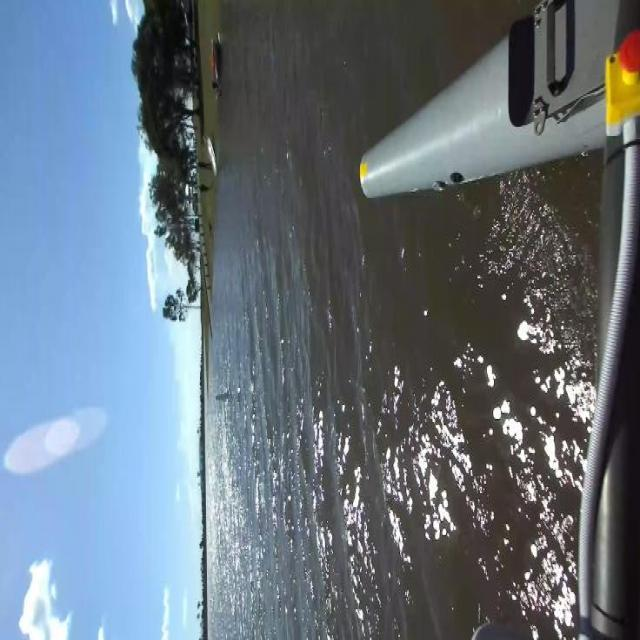White_Buoy: (203, 386, 237, 407)
